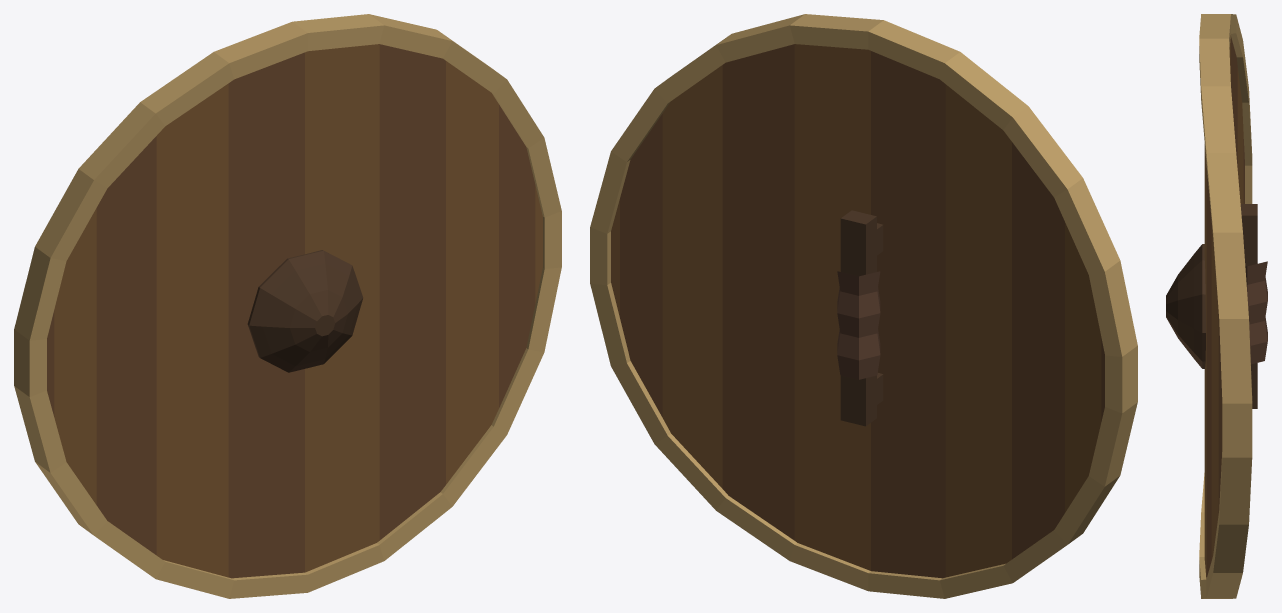
Rendered from mdvl_weapons_shield_wooden_01.glb.
3 views of the same model, side by side, from view 1: azimuth 30°, elevation 25°; view 2: azimuth 150°, elevation 25°; view 3: azimuth 270°, elevation 25° (orthographic). The views are drawn at different scales.
Parts seen in each view (by area): view 1: mdvl_weapons_shield_wooden_01; view 2: mdvl_weapons_shield_wooden_01; view 3: mdvl_weapons_shield_wooden_01.
Boxes of the visible parts, left/top/right/bottom form: mdvl_weapons_shield_wooden_01: left=14, top=14, right=561, bottom=598; mdvl_weapons_shield_wooden_01: left=590, top=14, right=1137, bottom=598; mdvl_weapons_shield_wooden_01: left=1166, top=14, right=1267, bottom=598.
Size of the model in its own units: 0.5515 by 0.5544 by 0.0954.
Materials: 1 (1 with a texture image).
